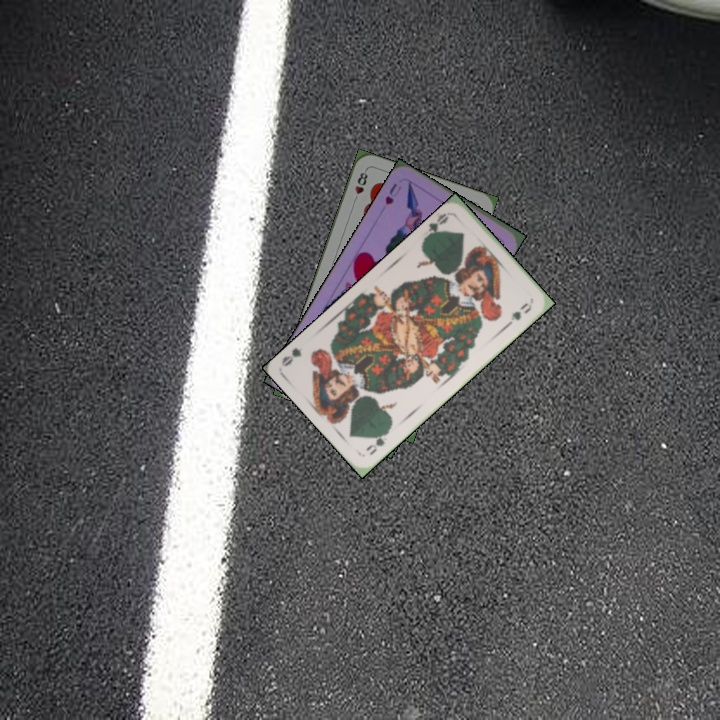GO: (420, 209, 452, 241), (362, 425, 392, 457)
H8: (349, 167, 370, 206)
HU: (381, 179, 404, 207)
